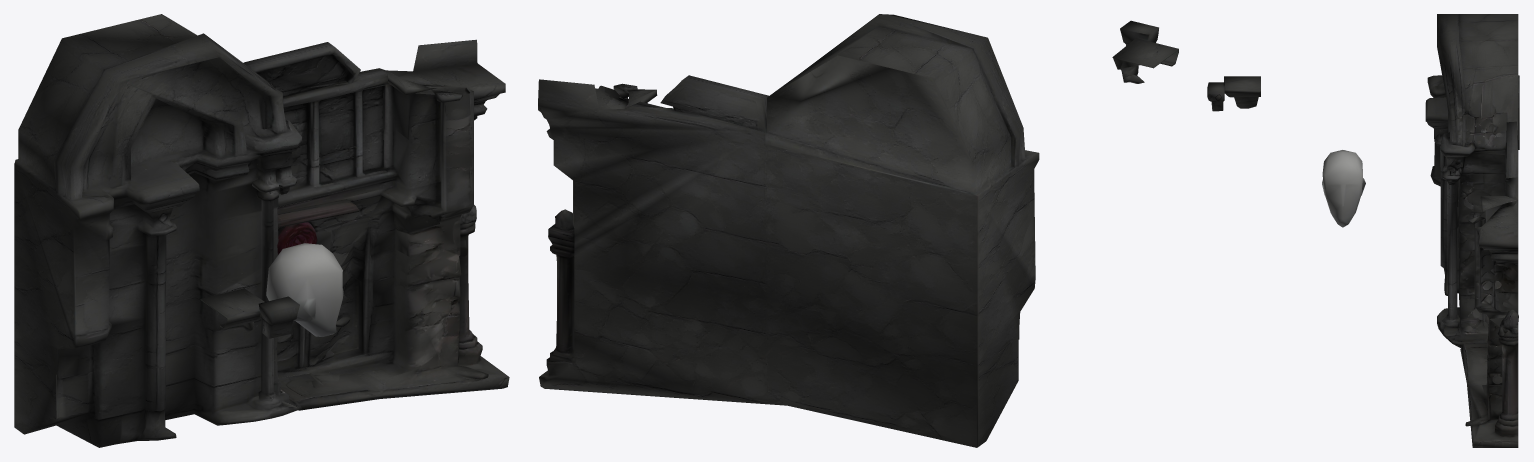
The model's file is source.glb.
3 views of the same model, side by side, from view 1: azimuth 30°, elevation 25°; view 2: azimuth 150°, elevation 25°; view 3: azimuth 270°, elevation 25° (orthographic). The views are drawn at different scales.
Visible parts, largest first — view 1: tripo_node_1755c0db-2700-4fbf-9825-7a9067ae48e8; view 2: tripo_node_1755c0db-2700-4fbf-9825-7a9067ae48e8; view 3: tripo_node_1755c0db-2700-4fbf-9825-7a9067ae48e8.
Boxes of the visible parts, x1,y1,x2,y2 form: tripo_node_1755c0db-2700-4fbf-9825-7a9067ae48e8: (14, 14, 509, 447); tripo_node_1755c0db-2700-4fbf-9825-7a9067ae48e8: (538, 14, 1178, 447); tripo_node_1755c0db-2700-4fbf-9825-7a9067ae48e8: (1207, 14, 1519, 447).
Size of the model in its own units: 1 by 0.9061 by 0.8434.
Materials: 1 (1 with a texture image).
